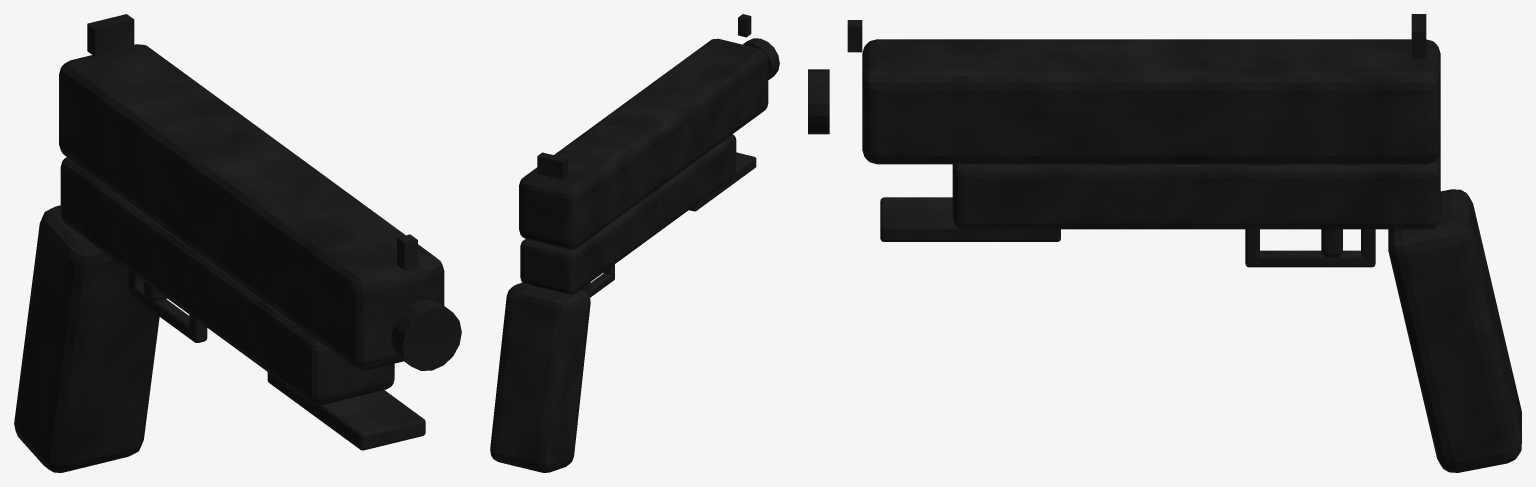
Rendered from PRP_Pistol_Main.fbx.
The picture shows the model from 3 angles, left to right: view 1: azimuth 30°, elevation 25°; view 2: azimuth 150°, elevation 25°; view 3: azimuth 270°, elevation 25°; orthographic projection. The views are drawn at different scales.
Parts seen in each view (by area): view 1: Pistol_Body, rail; view 2: Pistol_Body, rail; view 3: Pistol_Body, rail.
Boxes of the visible parts, bbox=[...] form: Pistol_Body: bbox=[14, 14, 461, 472]; rail: bbox=[267, 372, 425, 450]; Pistol_Body: bbox=[490, 14, 779, 472]; rail: bbox=[689, 152, 756, 211]; Pistol_Body: bbox=[808, 14, 1521, 472]; rail: bbox=[880, 197, 1060, 241].
Bounding box in the file's own units: 3 × 13.21 × 19.75.
